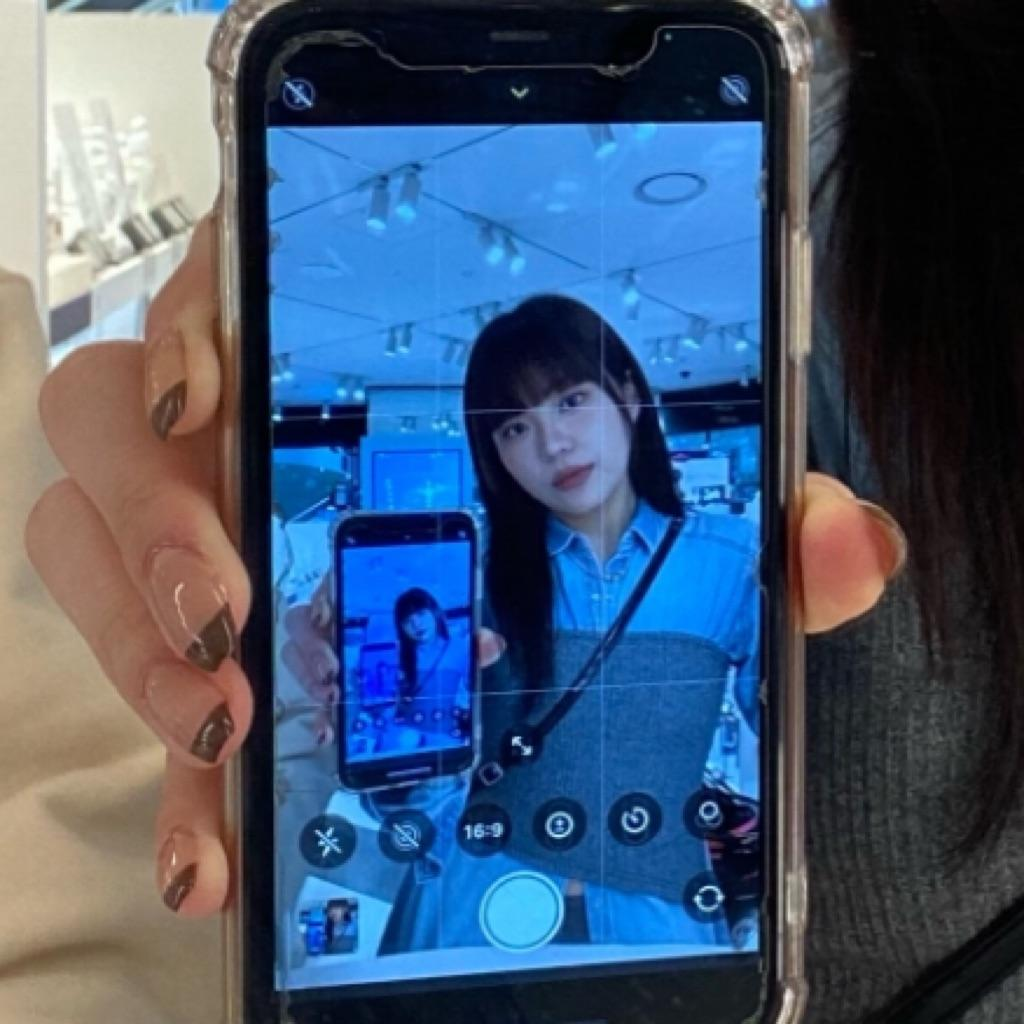nail: (141, 658, 234, 763), (183, 602, 237, 671), (188, 702, 234, 762), (150, 379, 186, 439)
